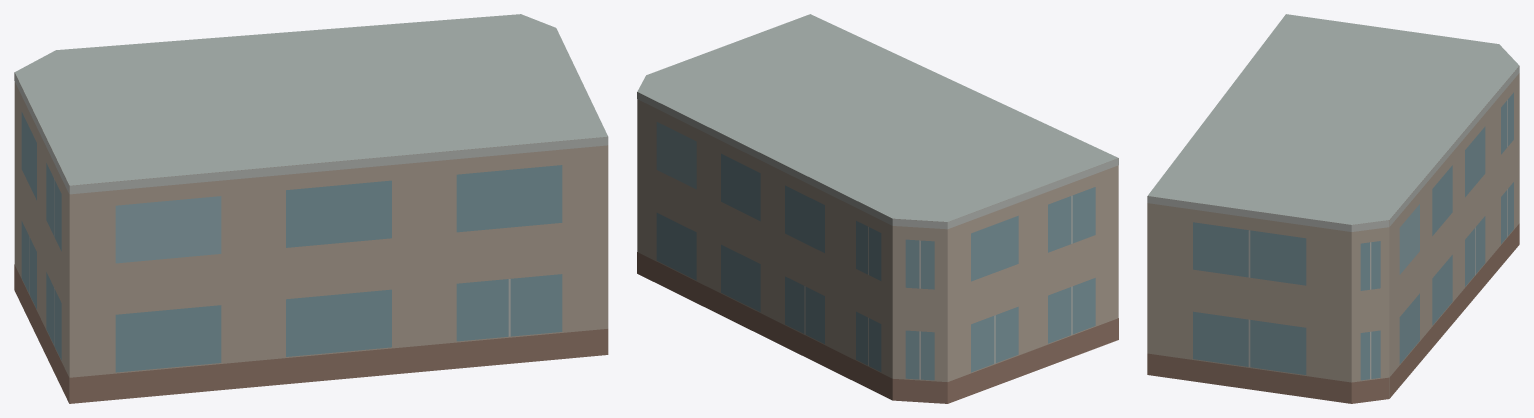
File: survey-upis-32655614.glb
3 views of the same model, side by side, from view 1: azimuth 30°, elevation 25°; view 2: azimuth 150°, elevation 25°; view 3: azimuth 270°, elevation 25° (orthographic). The views are drawn at different scales.
Parts seen in each view (by area): view 1: survey-upis-32655614.tmp; view 2: survey-upis-32655614.tmp; view 3: survey-upis-32655614.tmp.
Part boxes in pixels (x1,y1,x2,y2): survey-upis-32655614.tmp: (14,14,608,403); survey-upis-32655614.tmp: (637,14,1118,403); survey-upis-32655614.tmp: (1147,14,1519,403).
Bounding box in the file's own units: 15.43 × 6.1 × 11.51.
